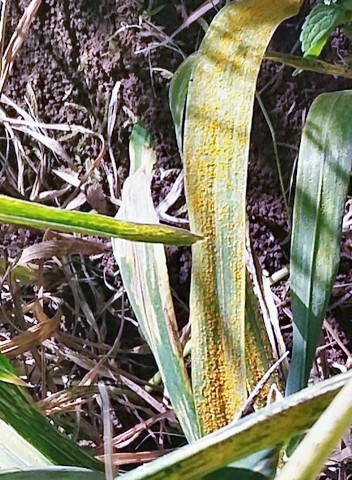Leaf Rust: (180, 30, 276, 413)
